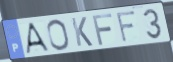3: (141, 7, 164, 41)
A: (25, 21, 52, 55)
F: (91, 12, 114, 47), (115, 9, 137, 44)
K: (70, 16, 95, 48)
O: (46, 18, 72, 51)
